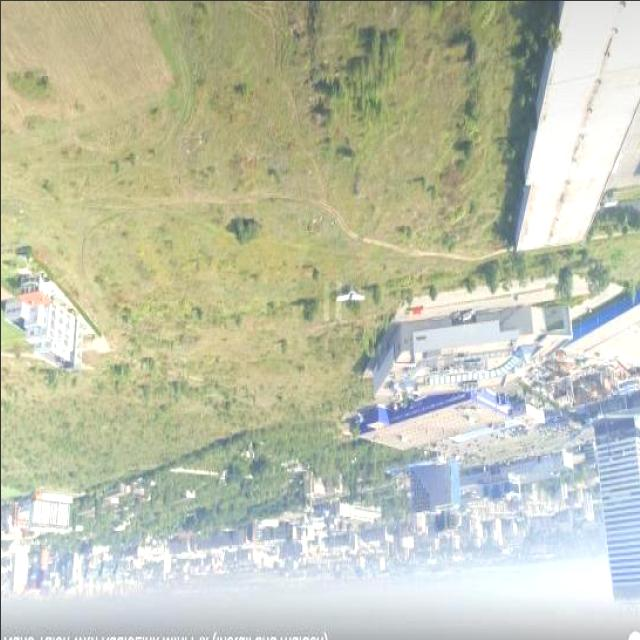plane: (334, 284, 364, 302)
